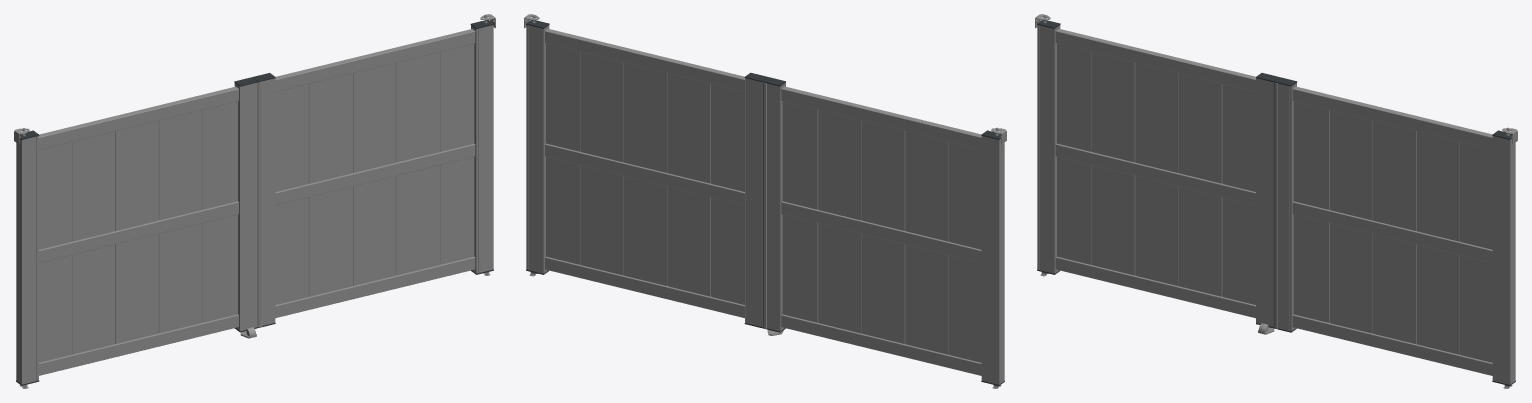
3 views of the same model, side by side, from view 1: azimuth 30°, elevation 25°; view 2: azimuth 150°, elevation 25°; view 3: azimuth 330°, elevation 25° (orthographic).
Parts seen in each view (by area): view 1: Line023, Line025, Line028, Line029, Line024, Line030, Line026, Line027, Line031, Line022, Shape107412643, Shape107412644 (+9 smaller); view 2: Line029, Line024, Line025, Line028, Line030, Line023, Line026, Line031, Line022, Line027, Shape107412643, Shape107412971 (+9 smaller); view 3: Line029, Line028, Line023, Line030, Line025, Line024, Line027, Line022, Line031, Line026, Shape107412971, Shape107412643 (+9 smaller).
Part boxes in pixels (bbox=[...]): Line023: bbox=[72, 131, 115, 354]; Line025: bbox=[159, 110, 202, 333]; Line028: bbox=[309, 73, 352, 296]; Line029: bbox=[353, 62, 396, 285]; Line024: bbox=[115, 120, 158, 343]; Line030: bbox=[396, 52, 439, 275]; Line026: bbox=[202, 101, 237, 322]; Line027: bbox=[275, 84, 309, 304]; Line031: bbox=[440, 43, 474, 264]; Line022: bbox=[39, 142, 71, 362]; Shape107412643: bbox=[16, 136, 38, 384]; Shape107412644: bbox=[234, 83, 257, 331]; Line029: bbox=[623, 62, 667, 285]; Line024: bbox=[861, 120, 905, 343]; Line025: bbox=[818, 110, 861, 333]; Line028: bbox=[667, 73, 710, 296]; Line030: bbox=[580, 52, 623, 275]; Line023: bbox=[905, 131, 948, 354]; Line026: bbox=[782, 101, 818, 322]; Line031: bbox=[546, 43, 580, 264]; Line022: bbox=[948, 142, 981, 362]; Line027: bbox=[711, 83, 744, 304]; Shape107412643: bbox=[981, 136, 1004, 384]; Shape107412971: bbox=[526, 24, 549, 273]; Line029: bbox=[1373, 121, 1417, 344]; Line028: bbox=[1330, 110, 1373, 333]; Line023: bbox=[1092, 52, 1135, 275]; Line030: bbox=[1417, 131, 1460, 354]; Line025: bbox=[1179, 73, 1222, 296]; Line024: bbox=[1136, 62, 1179, 286]; Line027: bbox=[1293, 101, 1330, 322]; Line022: bbox=[1057, 43, 1092, 264]; Line031: bbox=[1460, 142, 1492, 362]; Line026: bbox=[1223, 84, 1255, 304]; Shape107412971: bbox=[1492, 136, 1515, 384]; Shape107412643: bbox=[1037, 24, 1060, 273].
Bounding box in the file's own units: 3259 × 1693 × 116.
Materials: 7 (2 with a texture image).
